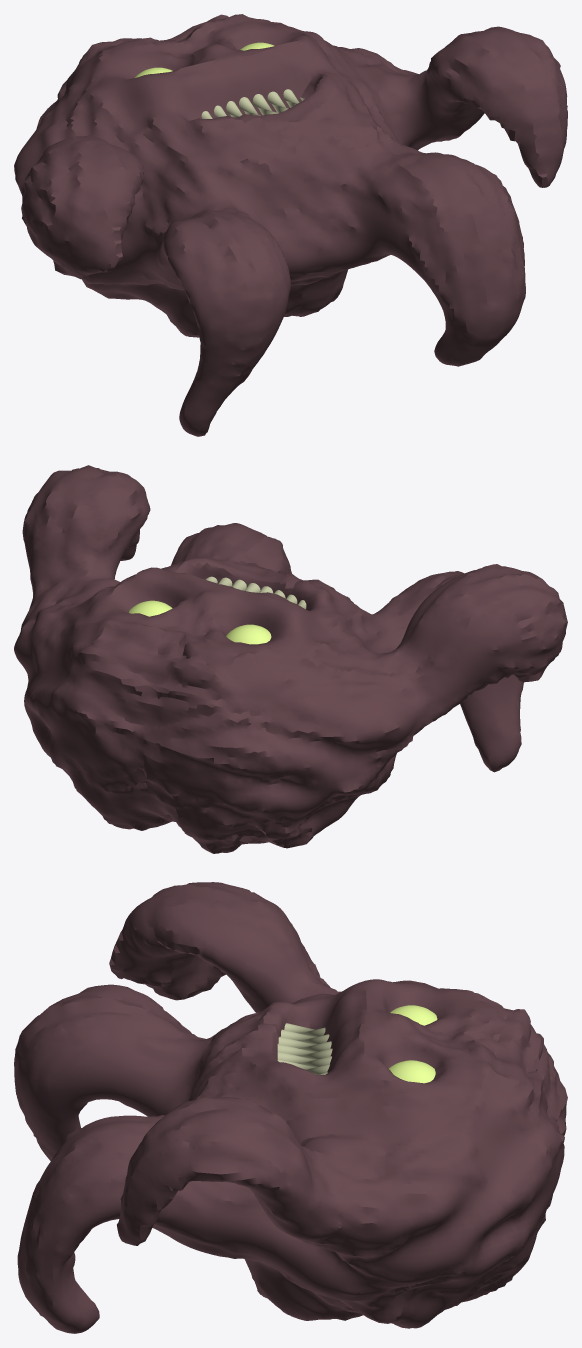
The model's file is Grunt Enemy Alternate.fbx.
The picture shows the model from 3 angles, top to bottom: view 1: azimuth 30°, elevation 25°; view 2: azimuth 150°, elevation 25°; view 3: azimuth 270°, elevation 25°; orthographic projection. The views are drawn at different scales.
Parts seen in each view (by area): view 1: Alternate Grunt Enemy; view 2: Alternate Grunt Enemy; view 3: Alternate Grunt Enemy.
Part boxes in pixels (left/top/right/bottom): Alternate Grunt Enemy: left=14, top=14, right=567, bottom=436; Alternate Grunt Enemy: left=14, top=465, right=567, bottom=853; Alternate Grunt Enemy: left=14, top=882, right=567, bottom=1333.
Size of the model in its own units: 363 by 172 by 295.
